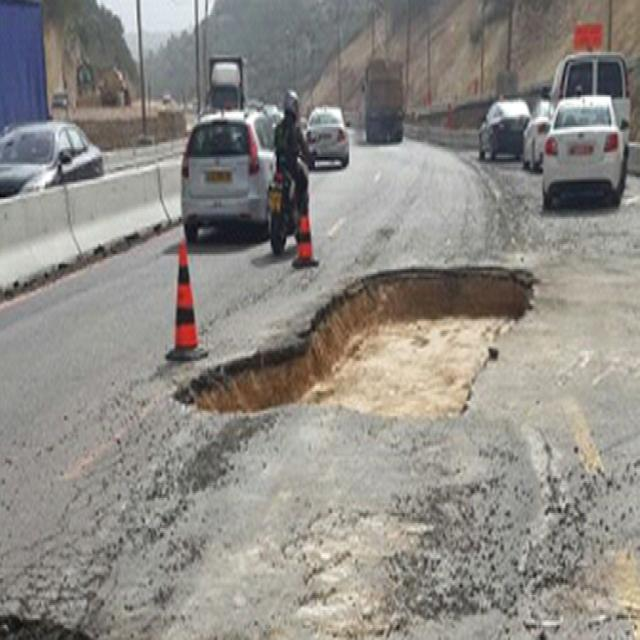major_pothole: (163, 254, 536, 419)
